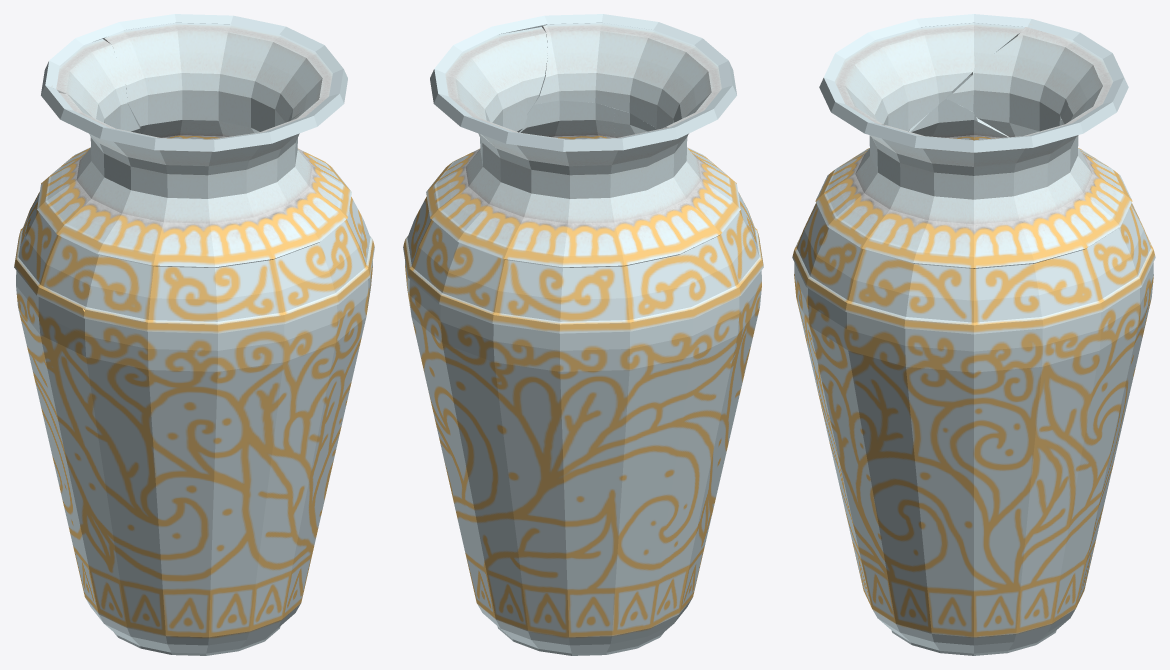
File: Vase1.fbx
3 renders of one model, left to right at view 1: azimuth 30°, elevation 25°; view 2: azimuth 150°, elevation 25°; view 3: azimuth 270°, elevation 25°, orthographic.
Visible parts, largest first — view 1: Vase05, Vase01, Vase06, Vase, Vase08, Vase02, Vase11, Vase04, Vase12, Vase03, Vase13; view 2: Vase03, Vase07, Vase, Vase01, Vase06, Vase12, Vase02, Vase08, Vase05, Vase10, Vase04, Vase09; view 3: Vase10, Vase04, Vase01, Vase03, Vase02, Vase, Vase09, Vase13, Vase11, Vase05, Vase07.
Part boxes in pixels (x1,y1,x2,y2): Vase05: (54,167,370,456); Vase01: (102,14,347,156); Vase06: (14,187,246,437); Vase: (58,483,300,655); Vase08: (30,359,245,536); Vase02: (41,77,344,201); Vase11: (134,383,351,532); Vase04: (260,139,374,375); Vase12: (41,407,247,586); Vase03: (35,28,139,199); Vase13: (226,485,327,602); Vase03: (426,127,683,352); Vase07: (406,230,671,456); Vase: (451,489,703,655); Vase01: (416,15,558,236); Vase06: (561,222,763,404); Vase12: (491,440,715,585); Vase02: (534,14,736,146); Vase08: (527,361,747,498); Vase05: (613,108,763,262); Vase10: (428,388,676,493); Vase04: (436,100,614,179); Vase09: (403,206,452,427); Vase10: (845,313,1127,540); Vase04: (804,153,1015,360); Vase01: (867,68,1128,288); Vase03: (946,23,1155,310); Vase02: (819,14,1046,175); Vase: (848,456,1112,655); Vase09: (945,270,1109,424); Vase13: (838,481,1044,623); Vase11: (818,395,1001,516); Vase05: (792,98,1009,441); Vase07: (1060,234,1153,441).
Bounding box in the file's own units: 30.78 × 50.64 × 30.78.
1 material, 1 textured.
